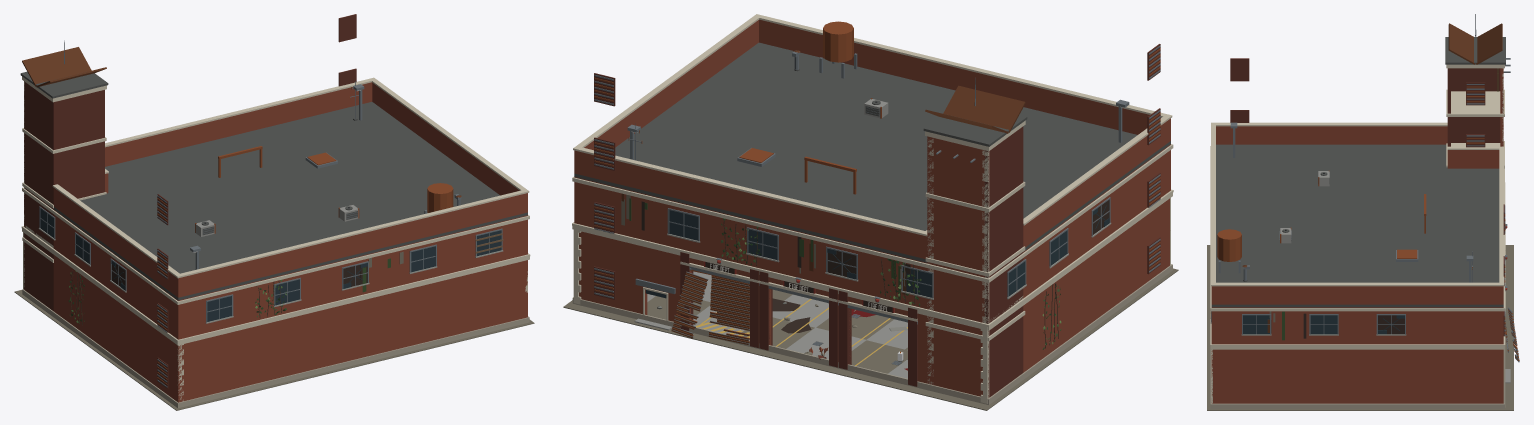
File: metro_fire_station.glb
The picture shows the model from 3 angles, left to right: view 1: azimuth 30°, elevation 25°; view 2: azimuth 150°, elevation 25°; view 3: azimuth 270°, elevation 25°; orthographic projection. The views are drawn at different scales.
Visible parts, largest first — view 1: metro_fire_station; view 2: metro_fire_station; view 3: metro_fire_station.
Boxes of the visible parts, left/top/right/bottom form: metro_fire_station: left=14, top=14, right=534, bottom=410; metro_fire_station: left=563, top=14, right=1178, bottom=410; metro_fire_station: left=1207, top=14, right=1519, bottom=410.
Size of what is drawn, in the model's own units: 34.8 by 24.3 by 27.83.
Materials: 3 (3 with a texture image).
